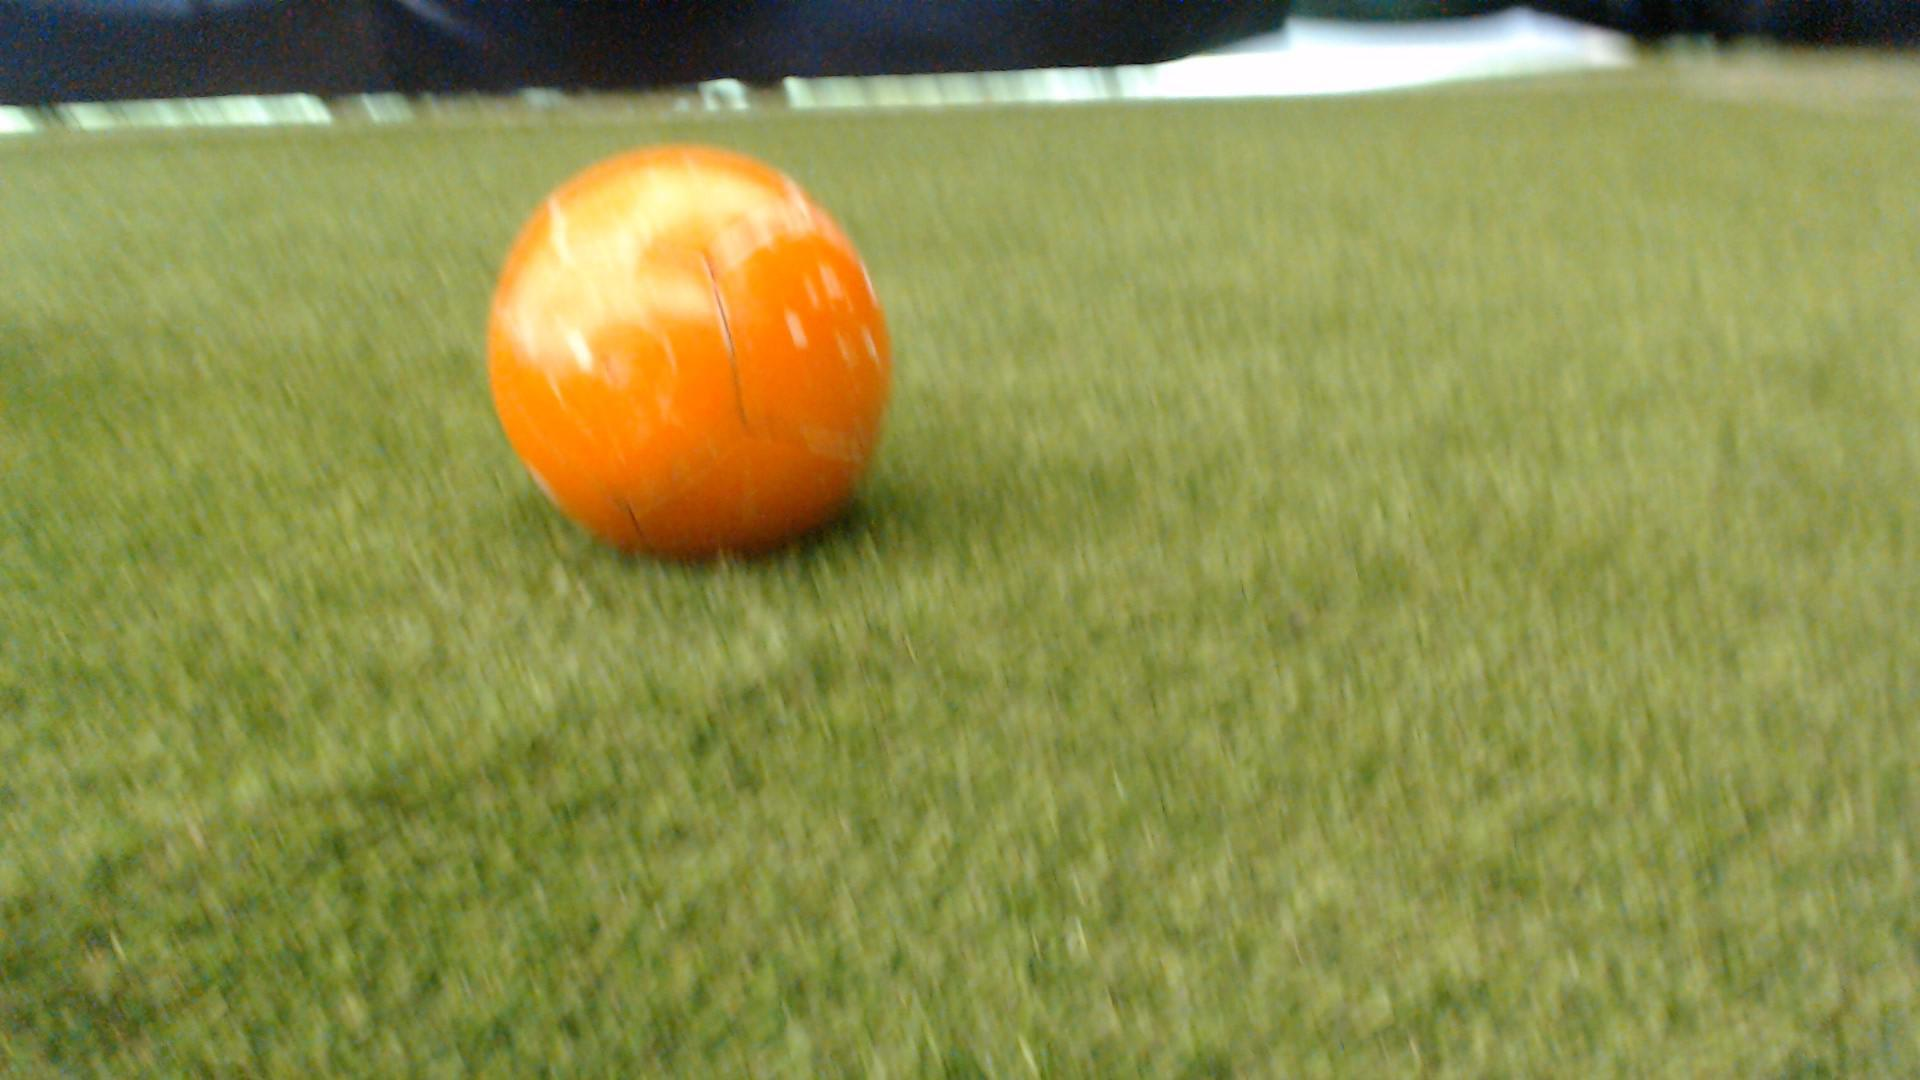bola: (455, 136, 945, 575)
